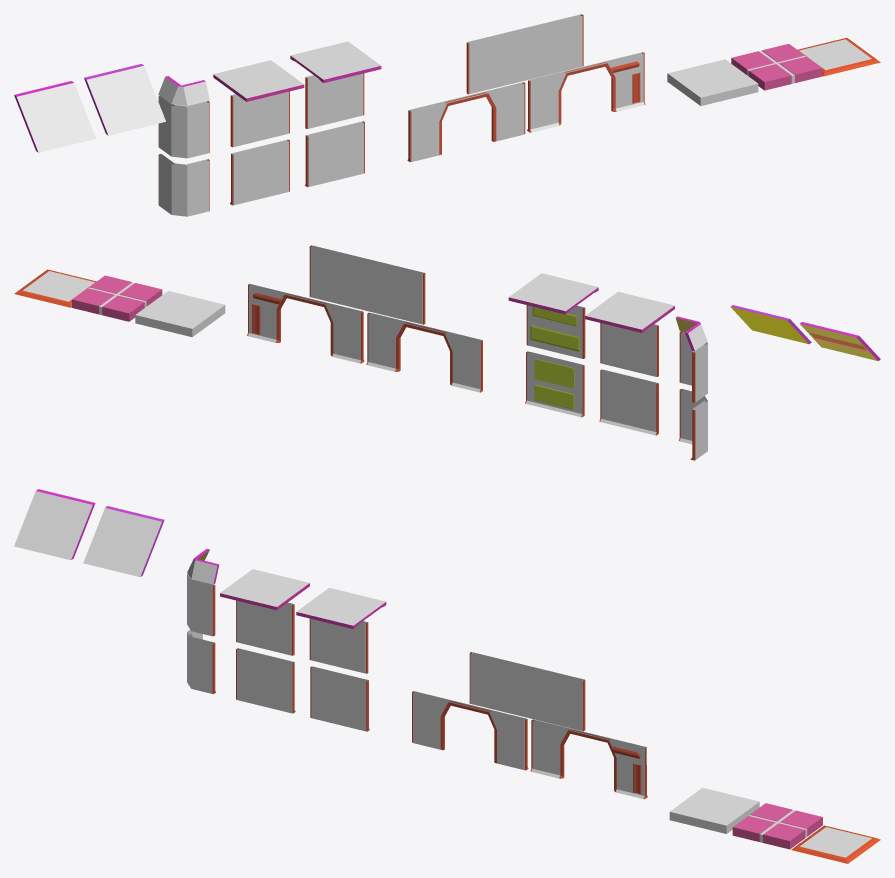
The model's file is EstructuraGeneral.fbx.
3 renders of one model, top to bottom at view 1: azimuth 30°, elevation 25°; view 2: azimuth 150°, elevation 25°; view 3: azimuth 330°, elevation 25°, orthographic.
Visible parts, largest first — view 1: ParedPPuertaInt, ParedPPuerta1, ParedPPuerta2, TechoDiagonalPLuz, TechoDiagonal, ParedAbajo4, ParedAbajo3, EsquinaAbajo1, PisoLiso, ParedArriba4, ParedArriba3, EsquinaArriba1 (+5 smaller); view 2: ParedPPuertaInt, ParedPPuerta1, ParedPPuerta2, ParedAbajo4, ParedAbajo3, PisoLiso, ParedArriba4, PisoCRelieve, ParedArriba3, TechoLisa, TechoCDetalle, PisoPViajeTiempo (+5 smaller); view 3: ParedPPuertaInt, ParedPPuerta2, ParedPPuerta1, TechoDiagonalPLuz, TechoDiagonal, ParedAbajo3, ParedAbajo4, PisoCRelieve, ParedArriba4, ParedArriba3, PisoLiso, TechoLisa (+4 smaller).
Boxes of the visible parts, left/top/right/bottom form: ParedPPuertaInt: left=466, top=14, right=583, bottom=94; ParedPPuerta1: left=407, top=82, right=525, bottom=161; ParedPPuerta2: left=527, top=52, right=645, bottom=132; TechoDiagonalPLuz: left=14, top=81, right=96, bottom=152; TechoDiagonal: left=84, top=64, right=165, bottom=135; ParedAbajo4: left=305, top=121, right=364, bottom=187; ParedAbajo3: left=230, top=139, right=289, bottom=205; EsquinaAbajo1: left=158, top=154, right=209, bottom=216; PisoLiso: left=667, top=59, right=758, bottom=105; ParedArriba4: left=305, top=73, right=364, bottom=128; ParedArriba3: left=230, top=91, right=289, bottom=147; EsquinaArriba1: left=158, top=96, right=209, bottom=158; ParedPPuertaInt: left=309, top=245, right=425, bottom=324; ParedPPuerta1: left=366, top=312, right=482, bottom=392; ParedPPuerta2: left=247, top=284, right=364, bottom=363; ParedAbajo4: left=525, top=351, right=584, bottom=417; ParedAbajo3: left=599, top=369, right=658, bottom=435; PisoLiso: left=135, top=291, right=225, bottom=337; ParedArriba4: left=526, top=305, right=585, bottom=358; PisoCRelieve: left=72, top=275, right=162, bottom=321; ParedArriba3: left=600, top=323, right=658, bottom=376; TechoLisa: left=585, top=291, right=674, bottom=332; TechoCDetalle: left=508, top=273, right=598, bottom=314; PisoPViajeTiempo: left=14, top=269, right=96, bottom=307; ParedPPuertaInt: left=469, top=652, right=585, bottom=731; ParedPPuerta2: left=530, top=719, right=647, bottom=799; ParedPPuerta1: left=412, top=691, right=528, bottom=770; TechoDiagonalPLuz: left=14, top=489, right=95, bottom=560; TechoDiagonal: left=83, top=506, right=164, bottom=576; ParedAbajo3: left=236, top=648, right=295, bottom=713; ParedAbajo4: left=310, top=666, right=369, bottom=731; PisoCRelieve: left=732, top=803, right=822, bottom=849; ParedArriba4: left=309, top=618, right=368, bottom=673; ParedArriba3: left=236, top=600, right=294, bottom=655; PisoLiso: left=669, top=787, right=759, bottom=833; TechoLisa: left=220, top=569, right=309, bottom=610.
Size of the model in its own units: 5198 by 915 by 365.
